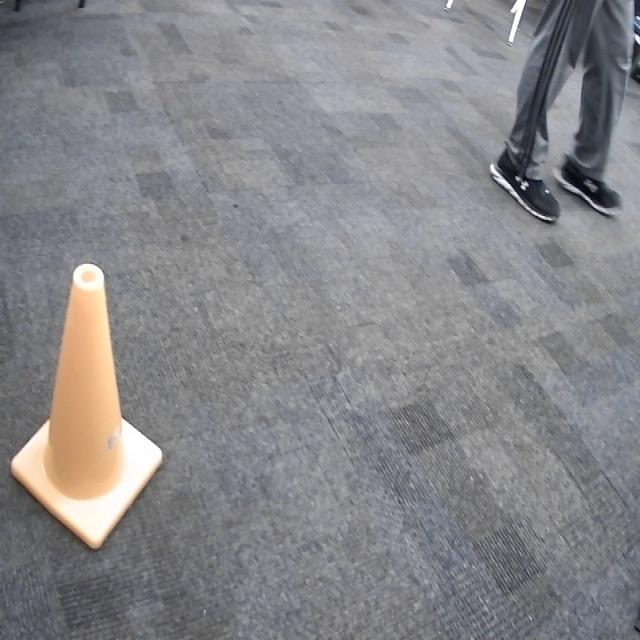cone: (12, 262, 165, 554)
